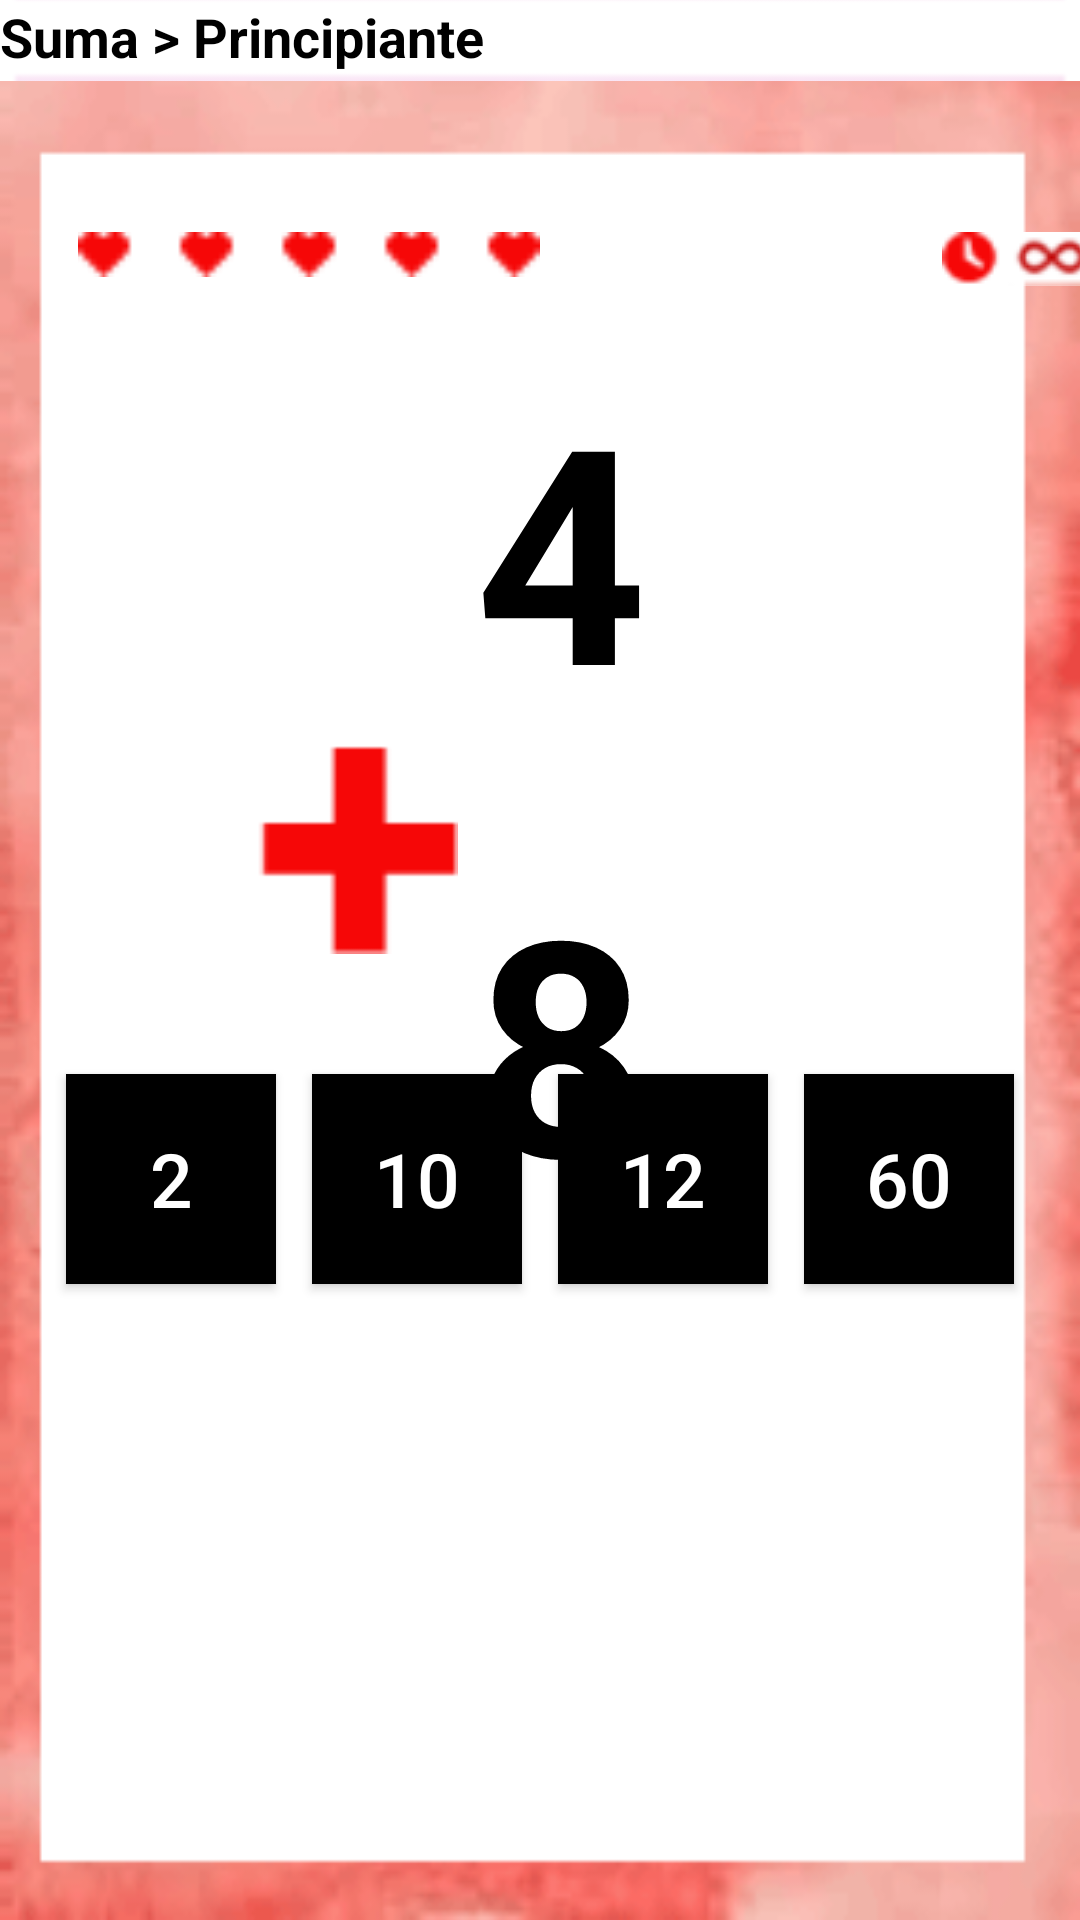

Icons on this 1080px×1920px Android screen, each with its box as (x1,y1,x2,y2):
Signo de suma: (260,746,458,954)
